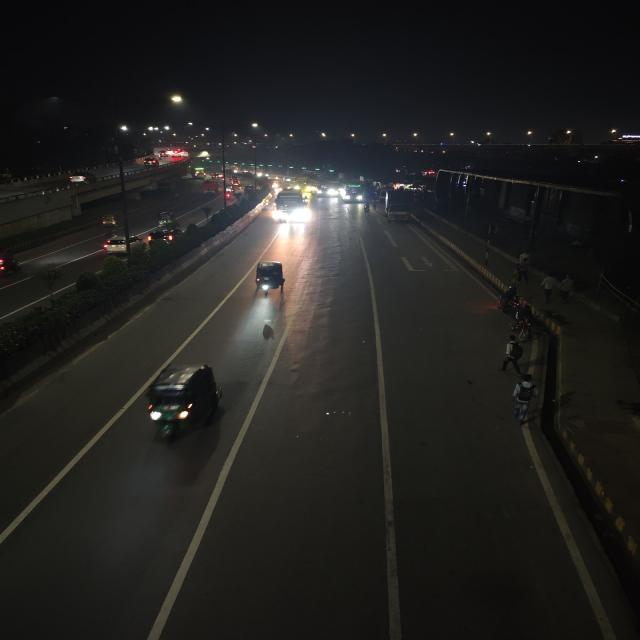bus: (272, 186, 308, 224), (308, 173, 341, 199), (343, 178, 366, 204)
car: (101, 234, 144, 254), (146, 224, 180, 246), (68, 173, 92, 184), (142, 156, 160, 168)
cng: (135, 361, 232, 446), (250, 258, 292, 300), (155, 209, 177, 226), (98, 212, 119, 228), (190, 168, 205, 180)
motorcycle: (493, 285, 537, 336)
pedestrian: (505, 378, 540, 430), (496, 336, 527, 374), (512, 255, 533, 285), (557, 274, 577, 304), (539, 274, 558, 302)
pickup_van: (199, 181, 219, 196)
truck: (384, 190, 419, 224)
